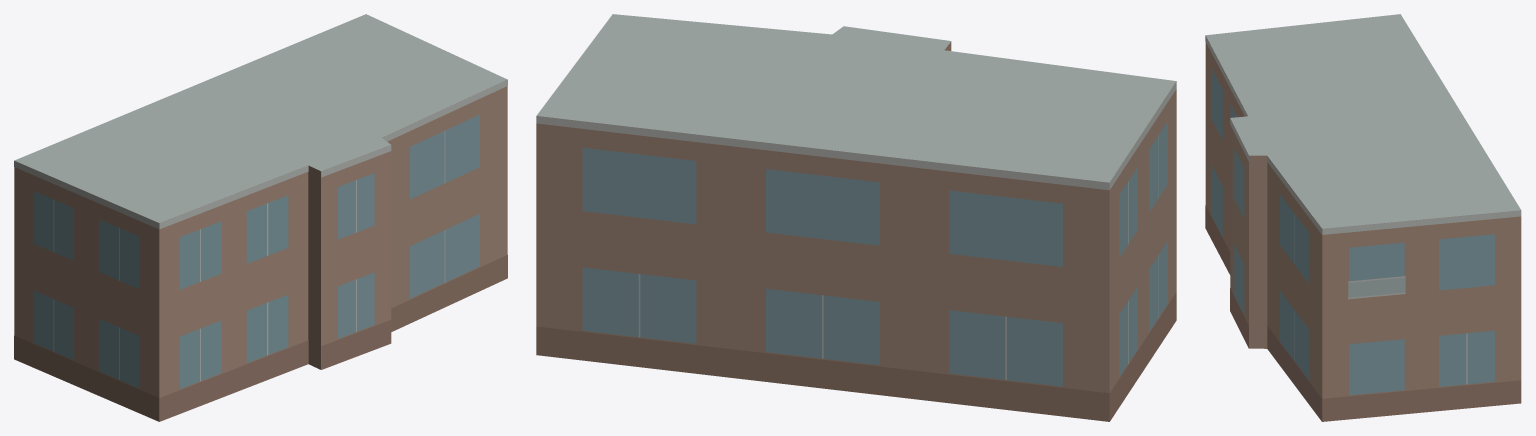
Rendered from survey-upis-32611860.glb.
3 views of the same model, side by side, from view 1: azimuth 30°, elevation 25°; view 2: azimuth 150°, elevation 25°; view 3: azimuth 270°, elevation 25° (orthographic). The views are drawn at different scales.
Visible parts, largest first — view 1: survey-upis-32611860.tmp; view 2: survey-upis-32611860.tmp; view 3: survey-upis-32611860.tmp.
Part boxes in pixels (<box>): survey-upis-32611860.tmp: <box>14,14,507,421</box>; survey-upis-32611860.tmp: <box>536,14,1176,421</box>; survey-upis-32611860.tmp: <box>1205,14,1521,421</box>.
Bounding box in the file's own units: 18.39 × 7.7 × 11.43.
